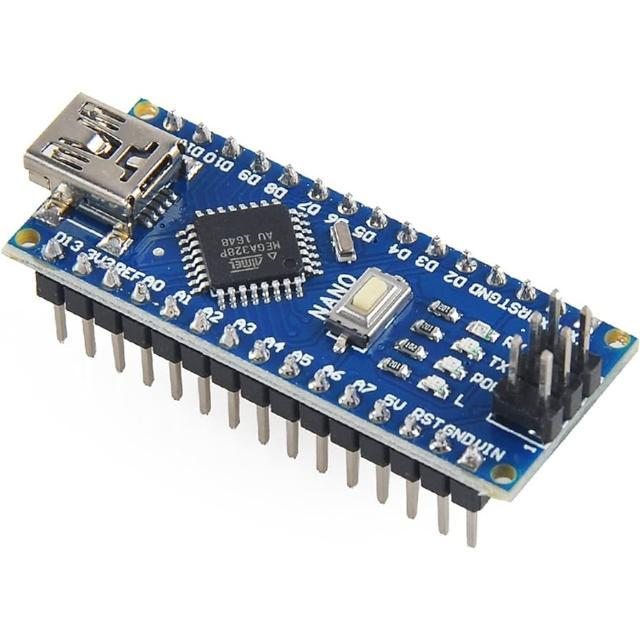Arduino-Nano: (5, 94, 640, 545)
